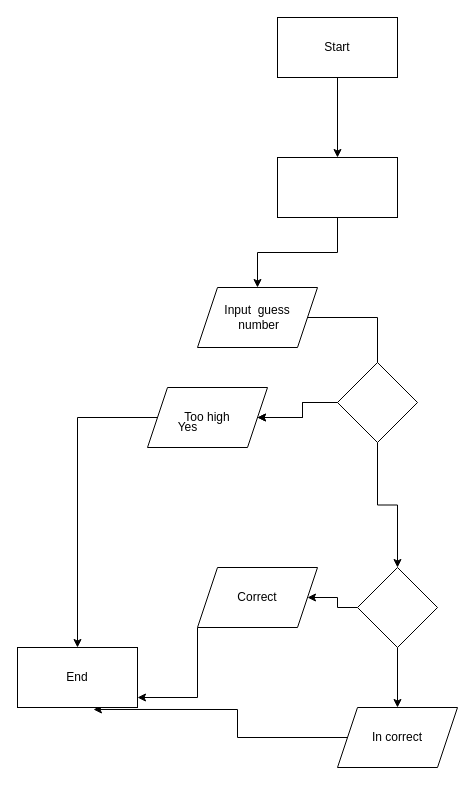
Some shapes in this 475 by 785 pixel diagram are drawn without their labels. Here are the shapes that lost their labels. From the top down, the centre of each, then its label:
[337,187]: Set number = 6
[377,402]: Is it more. than 10
[397,607]: Is it number 6
